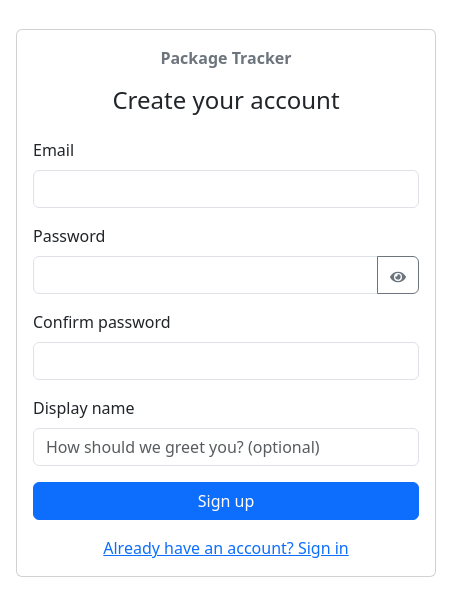
Test: <SignUpPage> › blocks submit when passwords do not match and surfaces a field error
This screenshot has width=453, height=607.
Type "new@b.c" into the field labelled "Email" at (226, 189), box 33,170 -> 419,208
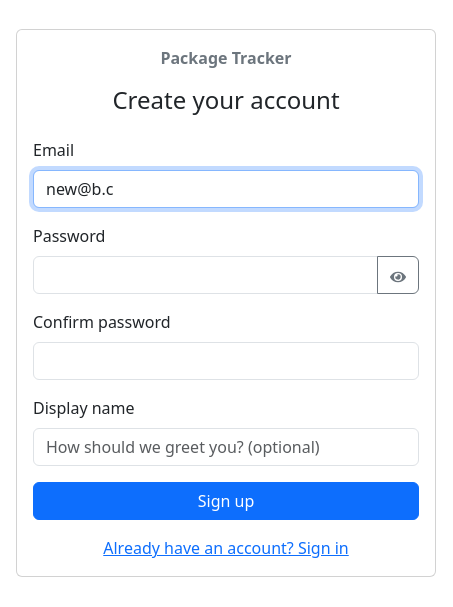
Type "secret123" into the password field labelled "Password" at (206, 275), box 33,256 -> 378,294
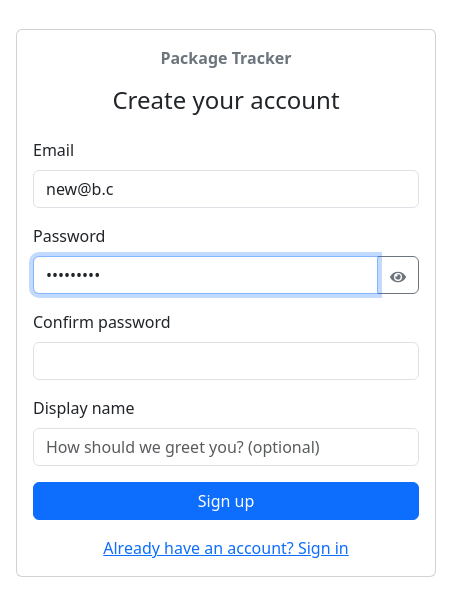
Type "different" into the password field labelled "Confirm password" at (226, 361), box 33,342 -> 419,380
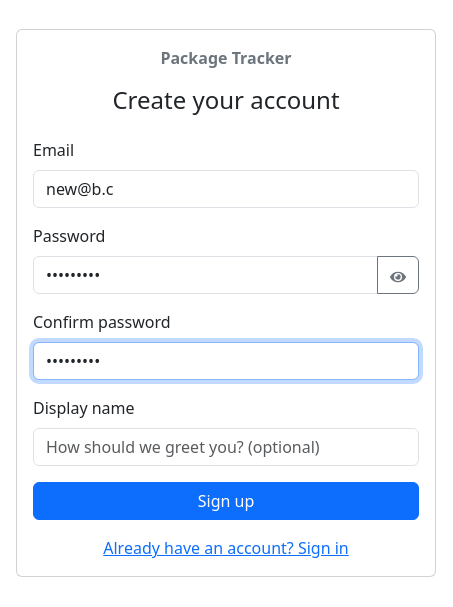
Click the button "Sign up" at (226, 501), box 33,482 -> 419,520
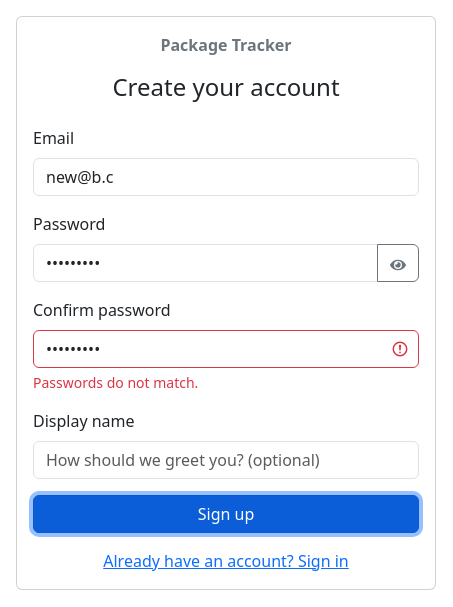
Check: the text "Passwords do not match." is shown, box 33,373 -> 198,392
